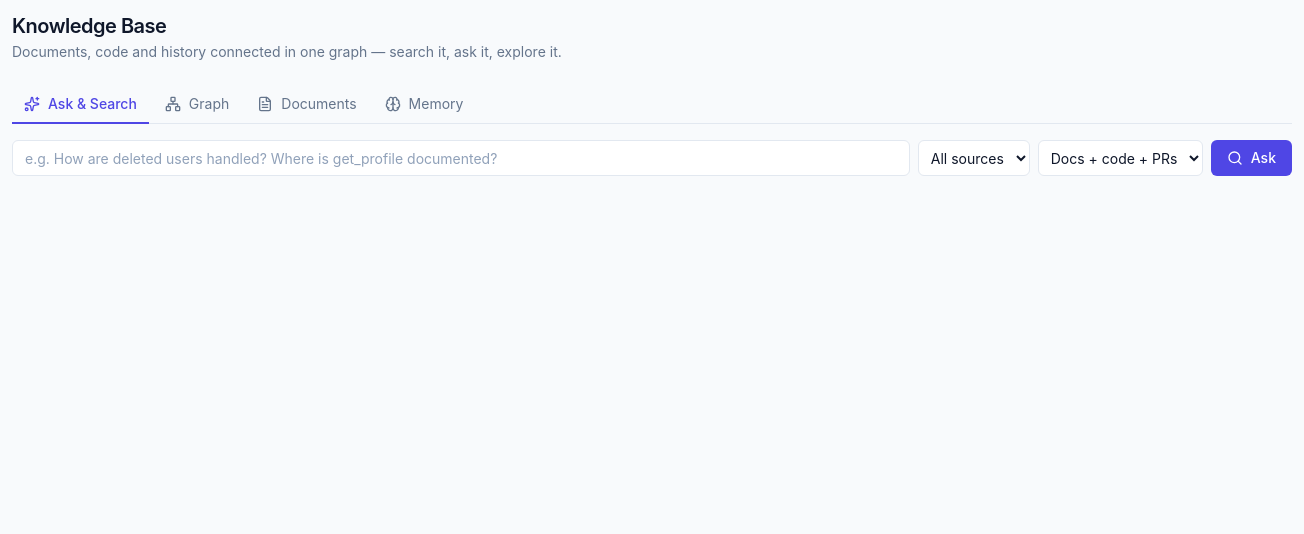
it: Knowledge page › says which names were not found and what the sources do not mention
The width and height of the screenshot is (1304, 534).
In the field named "Question": point(461, 158) left=12, top=140, right=910, bottom=176, type "how are roles assigned"
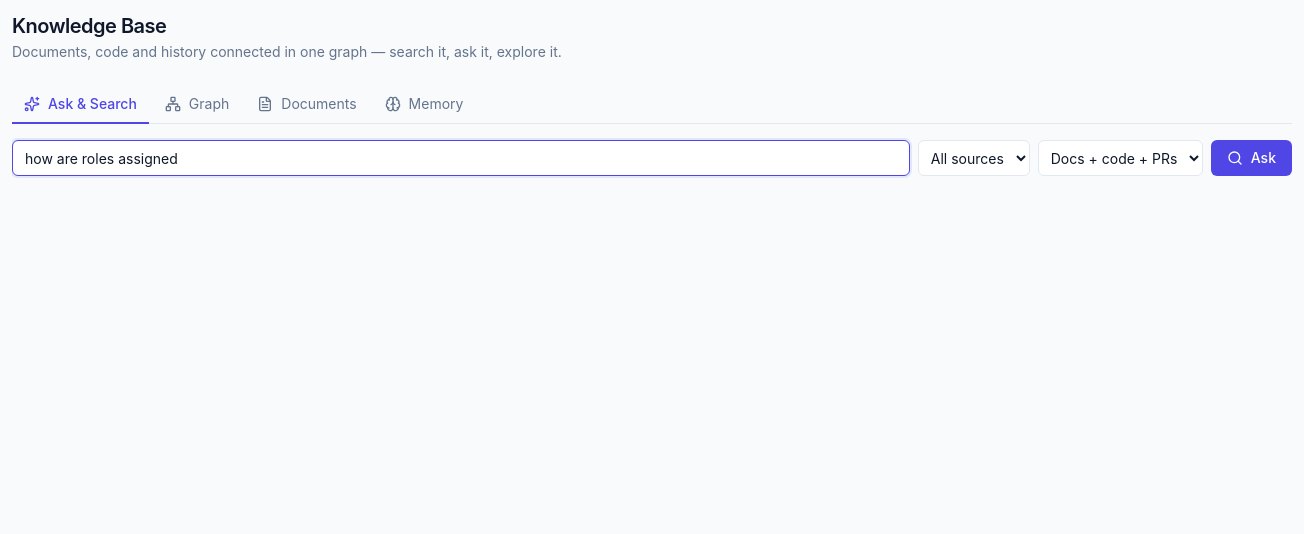
Click the button "Ask": point(1251, 158) left=1211, top=140, right=1292, bottom=176
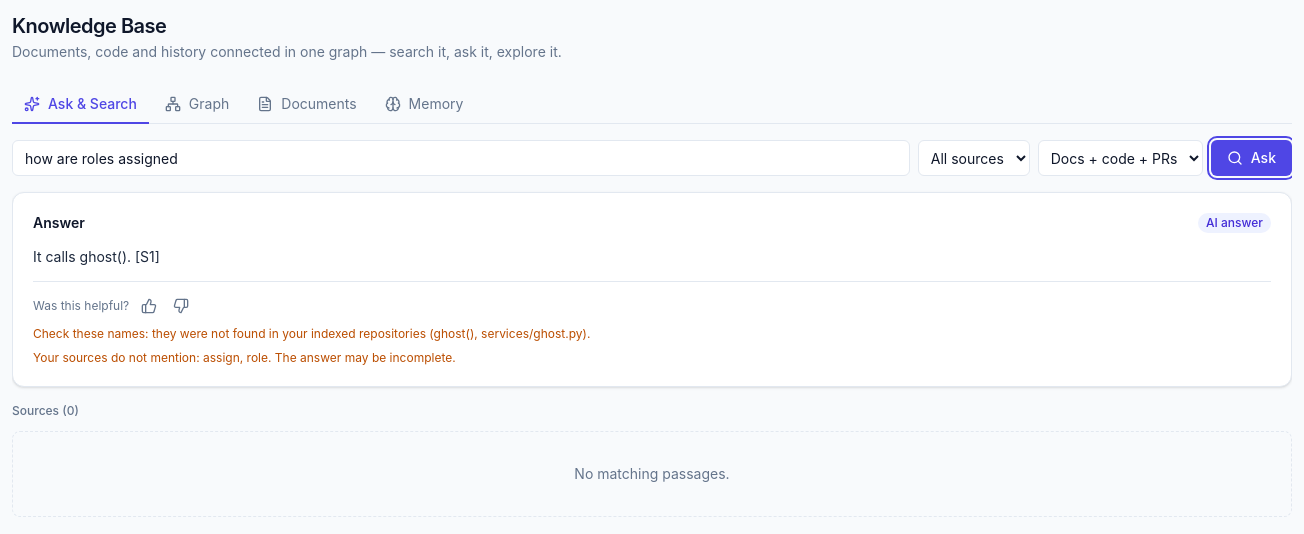
Expected: the text "Check these names" shows "ghost(), services/ghost.py", left=434, top=326, right=582, bottom=341
Expected: the text "Your sources do not mention" shows "assign, role", left=203, top=350, right=268, bottom=365
